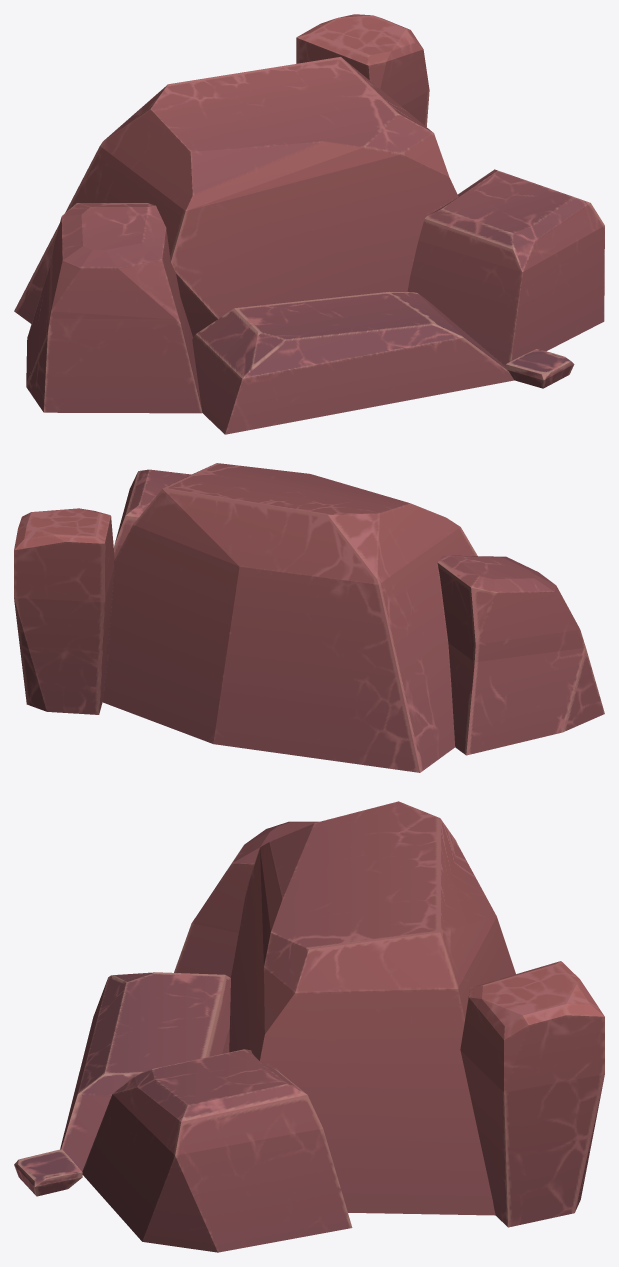
File: S_Rocks03.fbx
The picture shows the model from 3 angles, top to bottom: view 1: azimuth 30°, elevation 25°; view 2: azimuth 150°, elevation 25°; view 3: azimuth 270°, elevation 25°; orthographic projection. The views are drawn at different scales.
Parts seen in each view (by area): view 1: Rock_Short.001, Rock_Short.005, Rock_Short.006, Rock_Short.003, Rock_Short.002, Rock_Short.004; view 2: Rock_Short.001, Rock_Short.006, Rock_Short.002, Rock_Short.003; view 3: Rock_Short.001, Rock_Short.003, Rock_Short.002, Rock_Short.005, Rock_Short.006, Rock_Short.004.
Boxes of the visible parts, x1,y1,x2,y2 form: Rock_Short.001: (14, 57, 458, 337); Rock_Short.005: (192, 291, 514, 434); Rock_Short.006: (26, 203, 202, 413); Rock_Short.003: (407, 169, 604, 366); Rock_Short.002: (296, 14, 429, 126); Rock_Short.004: (505, 349, 574, 388); Rock_Short.001: (102, 463, 477, 772); Rock_Short.006: (437, 555, 604, 755); Rock_Short.002: (14, 508, 114, 714); Rock_Short.003: (114, 469, 191, 559); Rock_Short.001: (229, 801, 515, 1215); Rock_Short.003: (82, 1049, 352, 1252); Rock_Short.002: (460, 961, 604, 1227); Rock_Short.005: (60, 972, 230, 1171); Rock_Short.006: (174, 821, 318, 977); Rock_Short.004: (14, 1149, 82, 1196).
Bounding box in the file's own units: 5.17 × 2.02 × 4.31.
